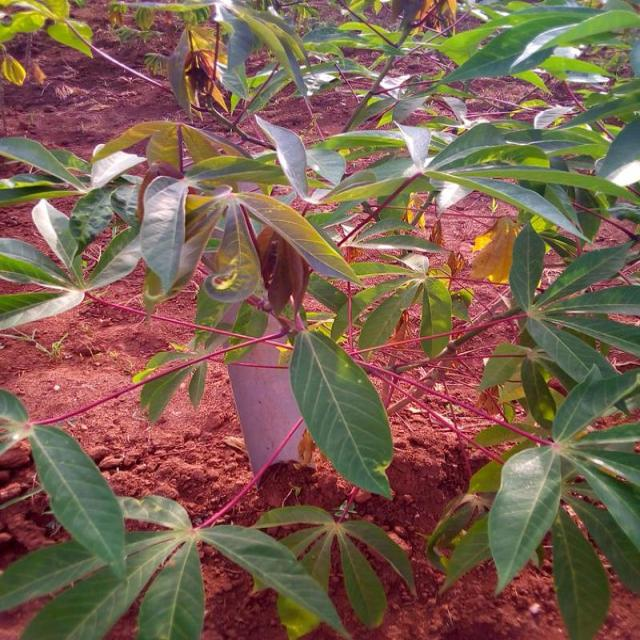cassava leaf: (289, 328, 395, 500), (29, 422, 128, 580), (488, 444, 563, 597)
